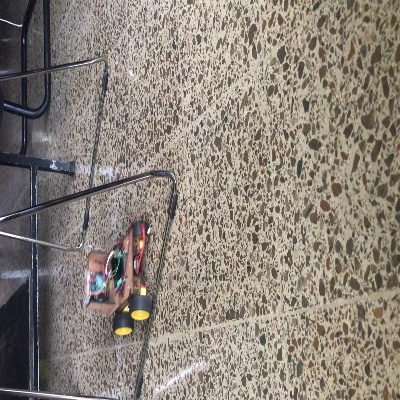Robot: (83, 220, 151, 335)
